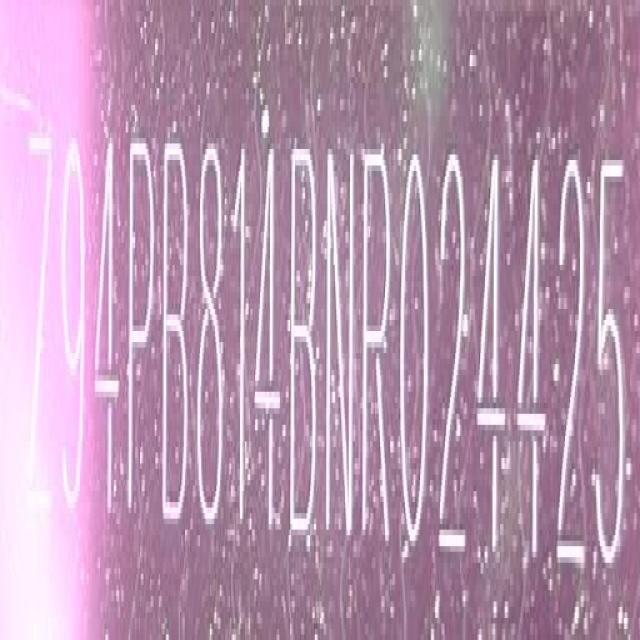0: (398, 147, 432, 564)
1: (232, 139, 252, 530)
2: (435, 149, 472, 563), (552, 149, 588, 574)
4: (516, 148, 549, 569), (475, 152, 508, 570), (254, 137, 285, 535), (95, 131, 123, 519)
5: (594, 151, 626, 576)
8: (198, 138, 226, 529)
9: (56, 129, 85, 519)
B: (287, 139, 321, 543), (159, 129, 193, 529)
N: (324, 141, 354, 548)
P: (124, 125, 156, 529)
R: (360, 143, 392, 549)
Z: (27, 129, 56, 525)
